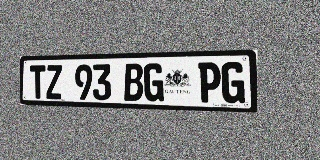3: (93, 64, 111, 100)
9: (75, 64, 92, 100)
B: (124, 63, 143, 101)
G: (221, 62, 245, 103), (144, 63, 164, 102)
P: (198, 62, 221, 103)
T: (30, 65, 46, 99)
Z: (46, 65, 62, 99)
